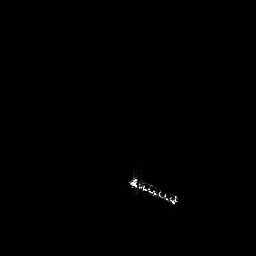ship: (125, 170, 181, 207)
